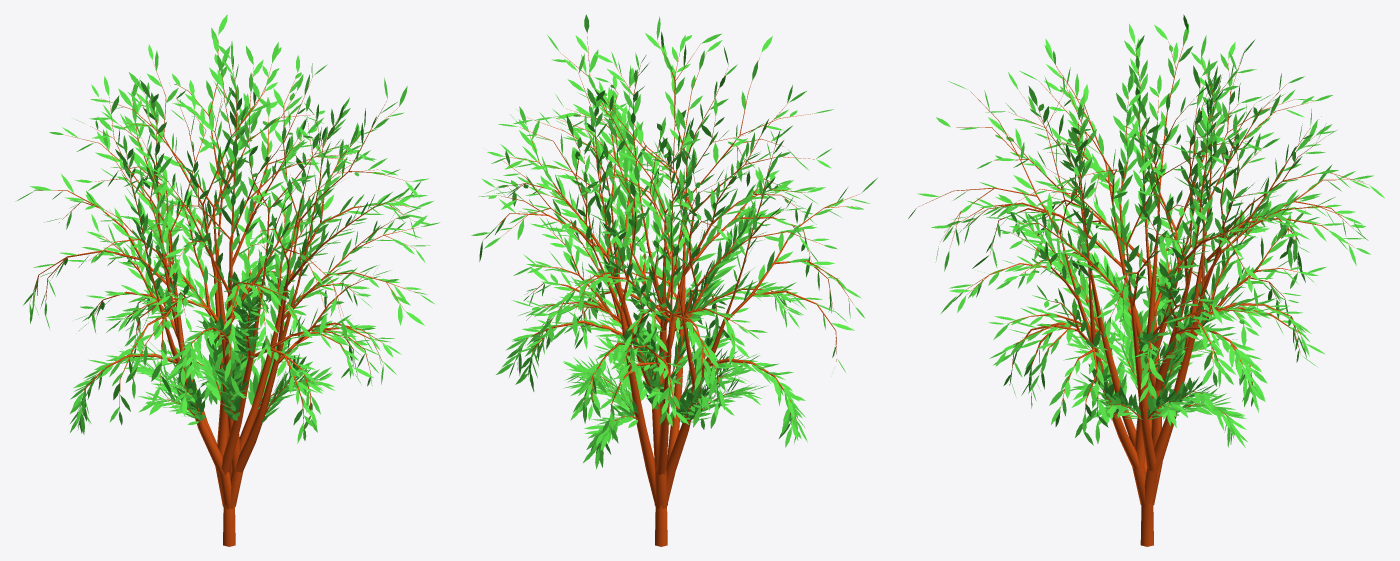
The model's file is tree test merged.fbx.
3 renders of one model, left to right at view 1: azimuth 30°, elevation 25°; view 2: azimuth 150°, elevation 25°; view 3: azimuth 270°, elevation 25°, orthographic. The views are drawn at different scales.
Visible parts, largest first — view 1: leaves; view 2: leaves; view 3: leaves.
Part boxes in pixels (<box>): leaves: <box>15,14,439,546</box>; leaves: <box>471,14,877,546</box>; leaves: <box>908,14,1384,546</box>.
Size of the model in its own units: 680 by 850 by 746.
